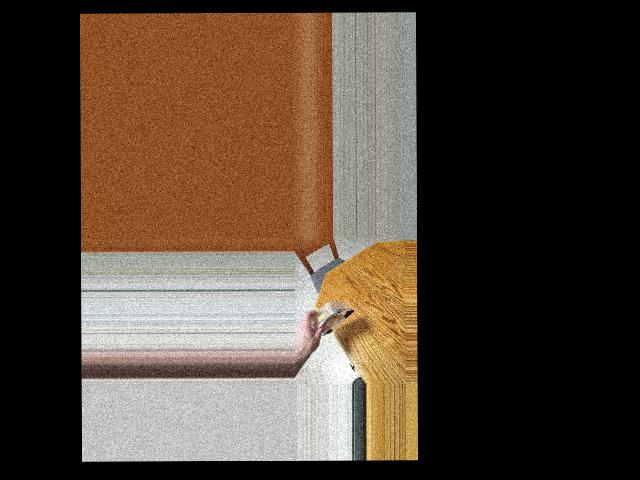cheese: (309, 291, 349, 341)
